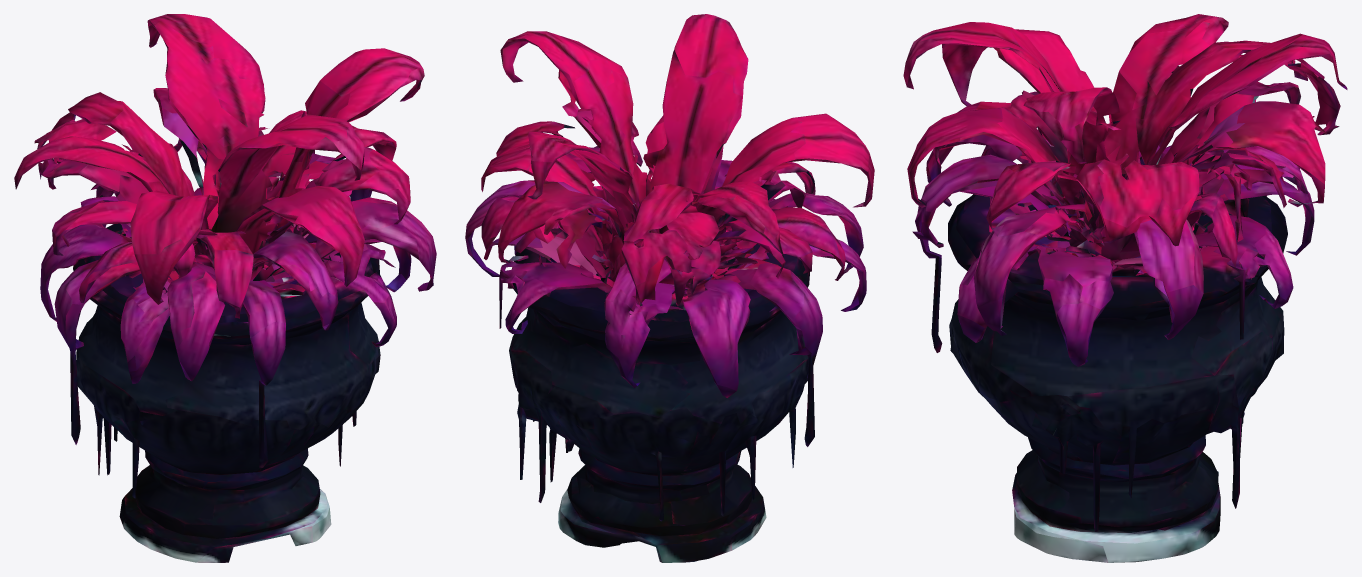
Rendered from growth-planter-generated-2026-05-17T18-51-24-217Z.low.glb.
3 views of the same model, side by side, from view 1: azimuth 30°, elevation 25°; view 2: azimuth 150°, elevation 25°; view 3: azimuth 270°, elevation 25° (orthographic). The views are drawn at different scales.
Parts seen in each view (by area): view 1: temp_mesh.ply; view 2: temp_mesh.ply; view 3: temp_mesh.ply.
Boxes of the visible parts, bbox=[...] form: temp_mesh.ply: bbox=[14, 14, 436, 562]; temp_mesh.ply: bbox=[465, 14, 874, 562]; temp_mesh.ply: bbox=[903, 14, 1347, 562].
Size of the model in its own units: 1.61 by 1.97 by 1.59.
1 material, 1 textured.
